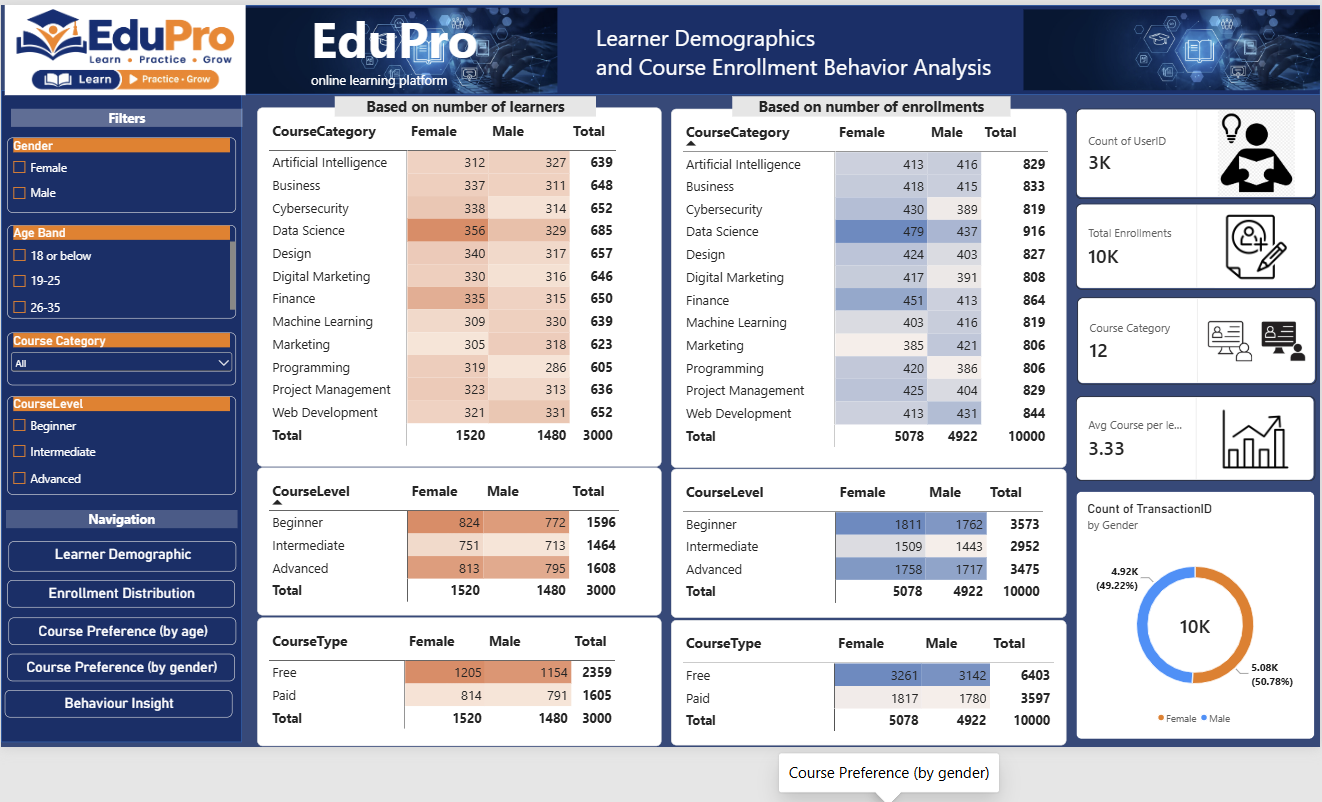

This screenshot's page, from the dashboard's own definition file:
{"tool":"powerbi","page":{"name":"Course Preference (by gender) ","canvas":[1920,1080],"ordinal":3},"visuals":[{"type":"shape","box":[350.6,0,1569.8,130.8],"z":0},{"type":"image","box":[350.6,0,458.7,132.6],"z":1000},{"type":"shape","box":[0,123.8,350.6,948.8],"z":2000},{"type":"image","box":[5.2,0,350.6,130.8],"z":3000},{"type":"textbox","box":[865.1,26.2,941.9,97.7],"z":4000},{"type":"image","box":[1487.8,0,432.6,130.8],"z":5000},{"type":"textbox","box":[450,0,334.9,150],"z":6000},{"type":"pivotTable","fields":{"Columns":["EduPro Online Platform Users.Gender"],"Rows":["EduPro Online Platform Courses.CourseCategory"],"Values":["Count(EduPro Online Platform Transactions.UserID)"]},"box":[372.6,149.7,587.7,522.2],"z":7000},{"type":"pivotTable","fields":{"Columns":["EduPro Online Platform Users.Gender"],"Rows":["EduPro Online Platform Courses.CourseCategory"],"Values":["Count(EduPro Online Platform Transactions.TransactionID)"]},"box":[974.3,151.2,575.2,522.2],"z":8000},{"type":"pivotTable","fields":{"Columns":["EduPro Online Platform Users.Gender"],"Rows":["EduPro Online Platform Courses.CourseLevel"],"Values":["Count(EduPro Online Platform Transactions.UserID)"]},"box":[372.6,673.4,587.7,215.1],"z":9000},{"type":"pivotTable","fields":{"Columns":["EduPro Online Platform Users.Gender"],"Rows":["EduPro Online Platform Courses.CourseType"],"Values":["Count(EduPro Online Platform Transactions.UserID)"]},"box":[372.6,890.1,587.7,187.1],"z":10000},{"type":"pivotTable","fields":{"Columns":["EduPro Online Platform Users.Gender"],"Rows":["EduPro Online Platform Courses.CourseLevel"],"Values":["Count(EduPro Online Platform Transactions.TransactionID)"]},"box":[974.3,675,575.2,216.7],"z":11000},{"type":"pivotTable","fields":{"Columns":["EduPro Online Platform Users.Gender"],"Rows":["EduPro Online Platform Courses.CourseType"],"Values":["Count(EduPro Online Platform Transactions.TransactionID)"]},"box":[974.3,894.8,575.2,182.4],"z":12000},{"type":"textbox","box":[1064,132.6,404.7,29.7],"z":13000},{"type":"slicer","fields":{"Values":["EduPro Online Platform Users.Gender"]},"box":[8.7,191.9,333.1,109.9],"z":14000},{"type":"slicer","fields":{"Values":["EduPro Online Platform Users.Age Band"]},"box":[8.7,319.2,333.1,136],"z":15000},{"type":"slicer","fields":{"Values":["EduPro Online Platform Courses.CourseLevel"]},"box":[8.7,568.6,333.1,143],"z":16000},{"type":"textbox","box":[14,150,336.6,26.2],"z":17000},{"type":"textbox","box":[7,734.3,336.6,26.2],"z":18000},{"type":"actionButton","title":"Enrollment Distribution","box":[8.7,835.5,331.4,40.1],"z":19000},{"type":"actionButton","title":"Learner Demographic","box":[10.5,779.7,331.4,43.6],"z":20000},{"type":"actionButton","title":"Course Preference (by age)","box":[10.5,891.3,331.4,40.1],"z":21000},{"type":"actionButton","title":"Course Preference (by gender)","box":[8.7,943.6,331.4,40.1],"z":22000},{"type":"actionButton","title":"Behaviour Insight","box":[5.2,995.9,331.4,40.1],"z":23000},{"type":"slicer","fields":{"Values":["EduPro Online Platform Courses.CourseCategory"]},"box":[8.7,476.2,333.1,76.7],"z":24000},{"type":"textbox","box":[484.9,132.6,380.2,29.7],"z":25000},{"type":"cardVisual","fields":{"Data":["EduPro Online Platform Transactions.Total Enrollments"]},"box":[1563.6,288.4,349.2,124.7],"z":26000},{"type":"cardVisual","fields":{"Data":["Count(EduPro Online Platform Users.UserID)"]},"box":[1563.6,151.2,349.2,130.9],"z":27000},{"type":"cardVisual","fields":{"Data":["Count(EduPro Online Platform Courses.CourseCategory)"]},"box":[1565.1,425.6,347.6,126.3],"z":28000},{"type":"cardVisual","fields":{"Data":["EduPro Online Platform Courses.Avg Course taken per learner"]},"box":[1563.6,569,347.6,123.2],"z":29000},{"type":"donutChart","fields":{"Category":["EduPro Online Platform Users.Gender"],"Y":["CountNonNull(EduPro Online Platform Transactions.TransactionID)"]},"box":[1562.8,706.4,347.1,361],"z":30000}]}

Visuals, with their boxes on the page's 1920x1080 design canvas (x1, y1, x2, y2). These are canvas units, not pixel positions in the 1322x802 screenshot, which may show the page scaled, cropped or inside an application window:
shape: bbox=[351, 0, 1920, 131]
image: bbox=[351, 0, 809, 133]
shape: bbox=[0, 124, 351, 1073]
image: bbox=[5, 0, 356, 131]
textbox: bbox=[865, 26, 1807, 124]
image: bbox=[1488, 0, 1920, 131]
textbox: bbox=[450, 0, 785, 150]
pivotTable - EduPro Online Platform Users.Gender x EduPro Online Platform Courses.CourseCategory: bbox=[373, 150, 960, 672]
pivotTable - EduPro Online Platform Users.Gender x EduPro Online Platform Courses.CourseCategory: bbox=[974, 151, 1550, 673]
pivotTable - EduPro Online Platform Users.Gender x EduPro Online Platform Courses.CourseLevel: bbox=[373, 673, 960, 888]
pivotTable - EduPro Online Platform Users.Gender x EduPro Online Platform Courses.CourseType: bbox=[373, 890, 960, 1077]
pivotTable - EduPro Online Platform Users.Gender x EduPro Online Platform Courses.CourseLevel: bbox=[974, 675, 1550, 892]
pivotTable - EduPro Online Platform Users.Gender x EduPro Online Platform Courses.CourseType: bbox=[974, 895, 1550, 1077]
textbox: bbox=[1064, 133, 1469, 162]
slicer - EduPro Online Platform Users.Gender: bbox=[9, 192, 342, 302]
slicer - EduPro Online Platform Users.Age Band: bbox=[9, 319, 342, 455]
slicer - EduPro Online Platform Courses.CourseLevel: bbox=[9, 569, 342, 712]
textbox: bbox=[14, 150, 351, 176]
textbox: bbox=[7, 734, 344, 760]
"Enrollment Distribution" actionButton: bbox=[9, 836, 340, 876]
"Learner Demographic" actionButton: bbox=[10, 780, 342, 823]
"Course Preference (by age)" actionButton: bbox=[10, 891, 342, 931]
"Course Preference (by gender)" actionButton: bbox=[9, 944, 340, 984]
"Behaviour Insight" actionButton: bbox=[5, 996, 337, 1036]
slicer - EduPro Online Platform Courses.CourseCategory: bbox=[9, 476, 342, 553]
textbox: bbox=[485, 133, 865, 162]
cardVisual - EduPro Online Platform Transactions.Total Enrollments: bbox=[1564, 288, 1913, 413]
cardVisual - Count(EduPro Online Platform Users.UserID): bbox=[1564, 151, 1913, 282]
cardVisual - Count(EduPro Online Platform Courses.CourseCategory): bbox=[1565, 426, 1913, 552]
cardVisual - EduPro Online Platform Courses.Avg Course taken per learner: bbox=[1564, 569, 1911, 692]
donutChart - EduPro Online Platform Users.Gender x CountNonNull(EduPro Online Platform Transactions.TransactionID): bbox=[1563, 706, 1910, 1067]
